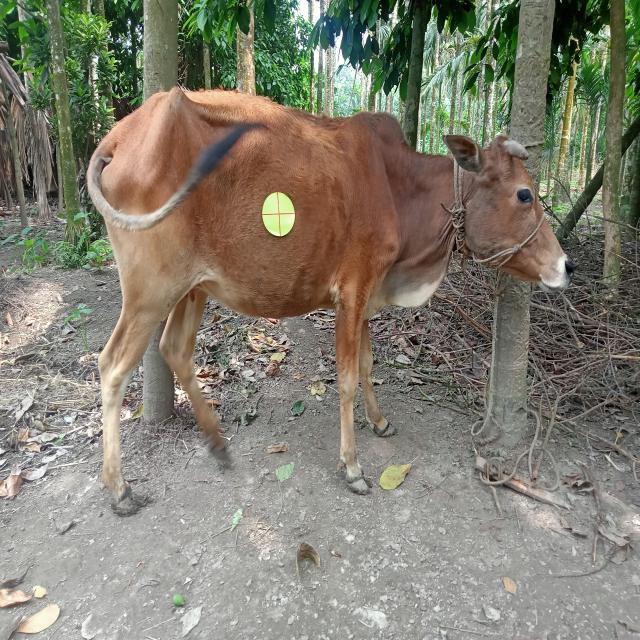badan_sapi: (106, 109, 406, 316)
sapi: (79, 76, 587, 522)
